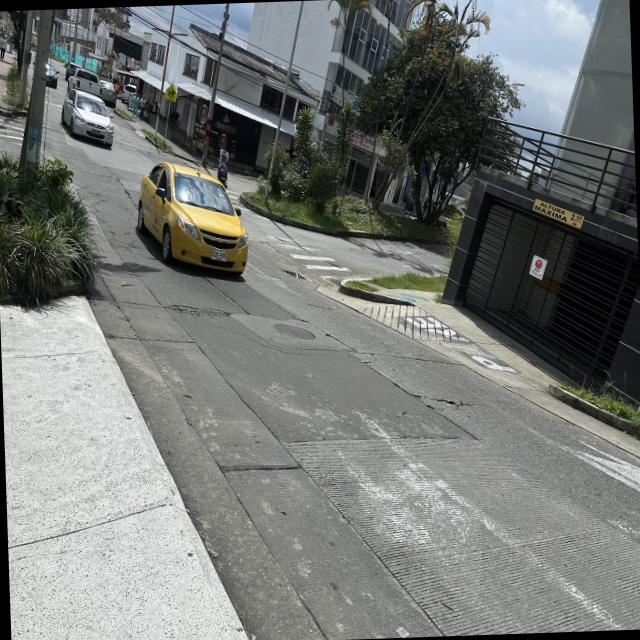number plate: (210, 248, 227, 261)
